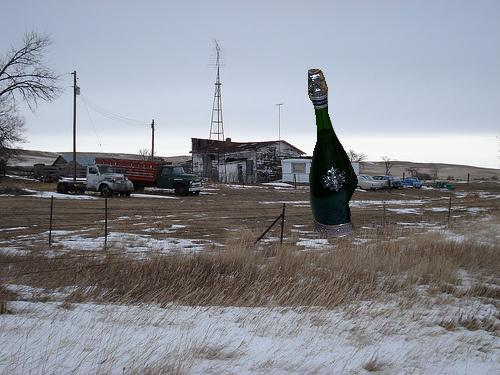tampered: (309, 70, 358, 237)
